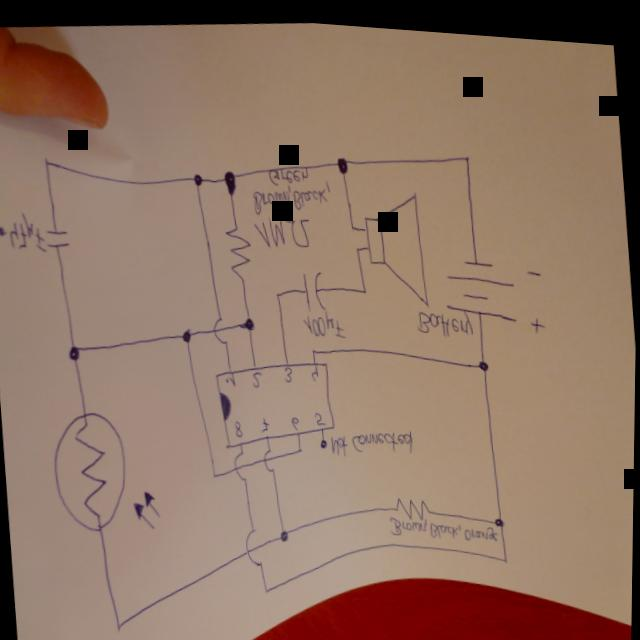capacitor: (296, 262, 329, 310), (42, 223, 70, 253)
crossover: (243, 523, 268, 565), (211, 310, 232, 345), (233, 447, 252, 480), (262, 447, 276, 472)
junction: (218, 162, 240, 194), (66, 340, 84, 366), (333, 151, 349, 172), (113, 615, 127, 637), (242, 311, 257, 331), (190, 170, 205, 188), (476, 351, 491, 369), (181, 325, 194, 343), (41, 155, 52, 172), (494, 507, 505, 522), (280, 525, 291, 540), (263, 581, 273, 595), (462, 146, 471, 158), (274, 286, 282, 297), (297, 443, 305, 451), (349, 219, 356, 228), (354, 240, 361, 249), (503, 549, 510, 558), (361, 283, 368, 291), (212, 469, 219, 477), (312, 343, 317, 352)
resistor: (46, 403, 166, 538), (222, 218, 255, 283), (392, 487, 434, 517)
source: (440, 242, 548, 335)
terminal: (319, 433, 330, 447)
text: (387, 503, 499, 544), (250, 172, 332, 217), (330, 418, 415, 458), (251, 207, 313, 250), (5, 207, 48, 257), (415, 299, 473, 335), (302, 305, 346, 338), (267, 161, 314, 184), (251, 366, 265, 386), (283, 361, 295, 381), (259, 412, 270, 433), (233, 417, 244, 437), (225, 368, 236, 384), (311, 363, 320, 379), (315, 407, 324, 422), (292, 413, 299, 427)
